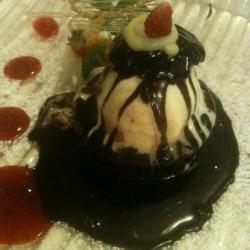icecream: (72, 7, 218, 186)
